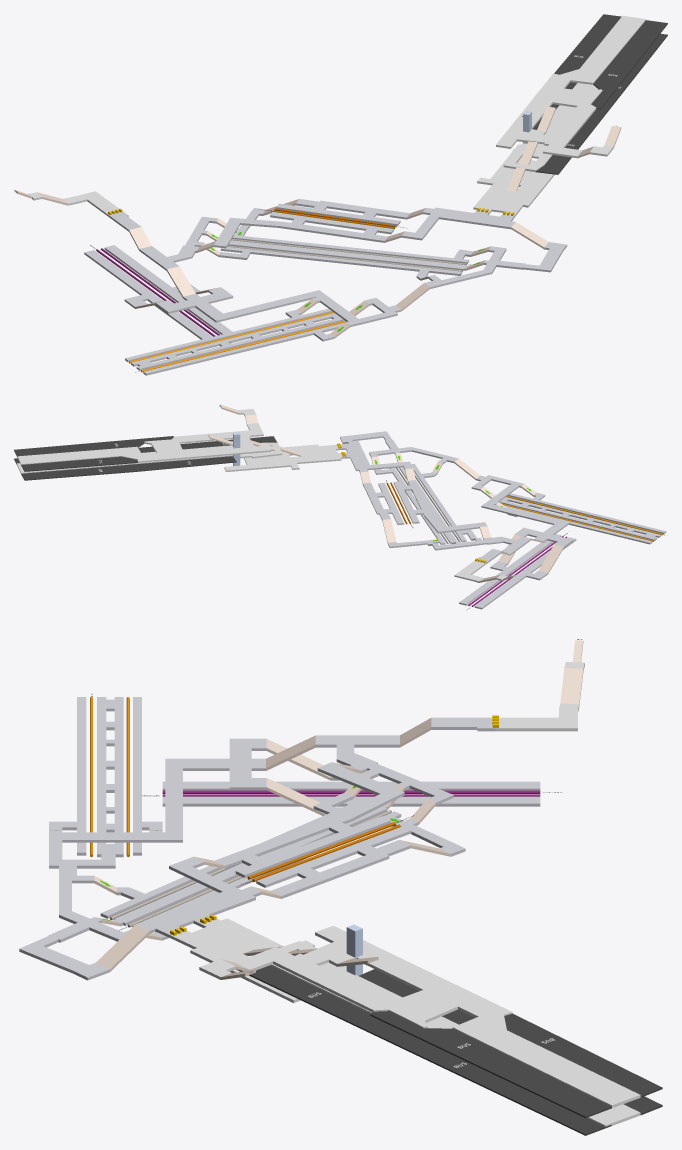
File: av_america.glb
3 views of the same model, one above another, from view 1: azimuth 30°, elevation 25°; view 2: azimuth 150°, elevation 25°; view 3: azimuth 270°, elevation 25° (orthographic). The views are drawn at different scales.
Parts seen in each view (by area): view 1: path1509-1, rect828, rect1032, rect1169, path2474, rect882, path943, path1499-1, path1536-3, path1014, path2372, path1462-3 (+6 smaller); view 2: path1509-1, rect828, path1536-3, path2474, rect1169, rect1032, path943, rect882, path1499-1, path1014, path1462-3, path2372 (+5 smaller); view 3: path1509-1, rect1169, path2474, path1536-3, rect828, rect882, rect1032, path943, path1014, path2372, path1499-1, path961 (+9 smaller).
Part boxes in pixels (x1,y1,x2,y2): path1509-1: (496,15,645,158); rect828: (125,308,344,375); rect1032: (218,208,473,280); rect1169: (213,199,409,248); path2474: (554,14,667,109); rect882: (156,287,401,326); path943: (84,245,232,339); path1499-1: (473,144,554,216); path1536-3: (533,33,667,174); path1014: (424,242,567,288); path2372: (401,207,515,240); path1462-3: (503,83,598,171); path1509-1: (17,423,271,465); rect828: (499,493,666,544); path1536-3: (14,436,277,480); path2474: (14,436,173,471); rect1169: (363,480,487,533); rect1032: (374,464,476,547); path943: (459,534,576,609); rect882: (471,475,573,547); path1499-1: (224,444,344,471); path1014: (340,431,458,464); path1462-3: (16,442,282,473); path2372: (340,441,412,472); path1509-1: (235,925,640,1108); rect1169: (215,762,411,898); path2474: (370,1011,662,1118); path1536-3: (236,965,662,1135); rect828: (49,697,162,857); rect882: (49,738,266,868); rect1032: (100,792,465,940); path943: (162,772,540,808); path1014: (19,868,128,980); path2372: (136,856,261,937); path1499-1: (170,918,314,1003); path961: (315,735,453,805).
Size of the model in its own units: 377 by 48 by 198.
